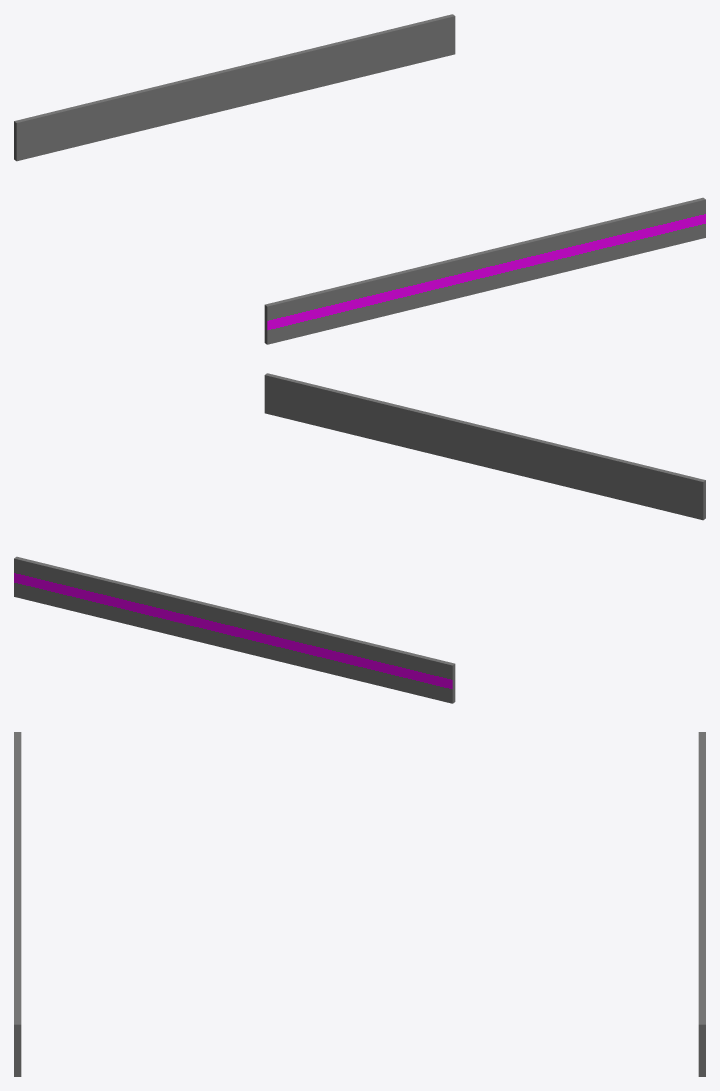
The model's file is rails.glb.
The picture shows the model from 3 angles, top to bottom: view 1: azimuth 30°, elevation 25°; view 2: azimuth 150°, elevation 25°; view 3: azimuth 270°, elevation 25°; orthographic projection. The views are drawn at different scales.
Parts seen in each view (by area): view 1: mesh (×2); view 2: mesh (×2); view 3: mesh (×2).
Boxes of the visible parts, <box> form: mesh (×2): <box>14,14,705,344</box>; mesh (×2): <box>14,373,705,703</box>; mesh (×2): <box>14,732,705,1076</box>.
Bounding box in the file's own units: 3 × 0.25 × 3.
Materials: 1 (1 with a texture image).
